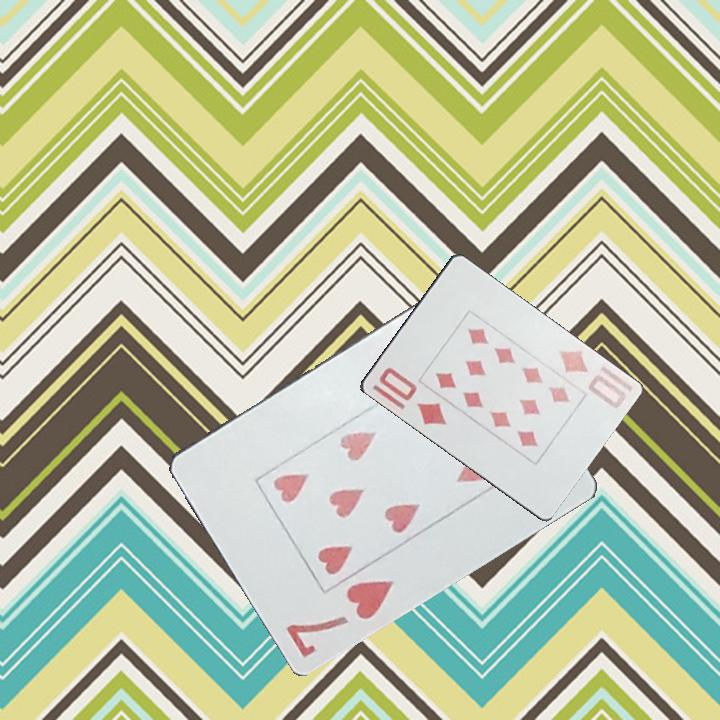7h: (282, 575, 397, 660)
Td: (375, 363, 449, 429), (554, 346, 629, 411)
